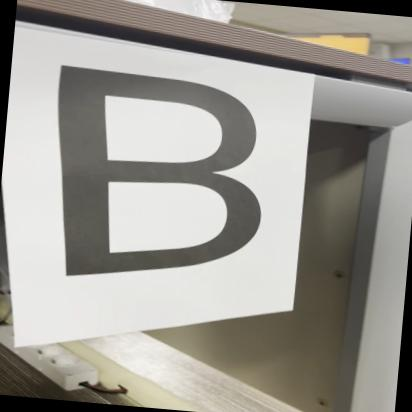seat: (8, 52, 334, 301)
